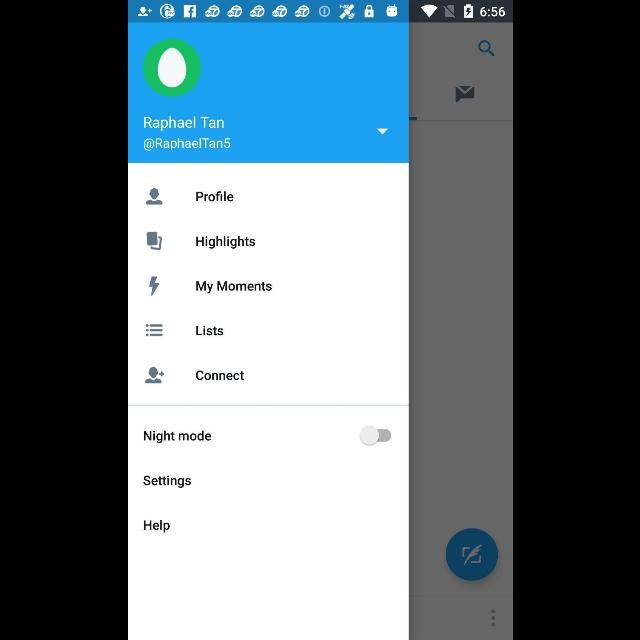icon: (144, 366, 164, 384), (146, 188, 162, 206), (146, 232, 162, 250), (146, 324, 162, 338), (376, 129, 388, 135)
image: (142, 39, 200, 97), (149, 276, 159, 296)
panel: (128, 22, 408, 640)
switch: (359, 426, 391, 446)
text: (143, 116, 223, 132), (195, 280, 271, 294), (143, 138, 230, 150), (143, 431, 211, 444), (196, 236, 254, 248), (142, 476, 190, 488), (195, 370, 243, 380), (195, 190, 232, 202), (143, 520, 169, 532), (195, 326, 222, 336)
uppertaskbar: (128, 1, 512, 23)
